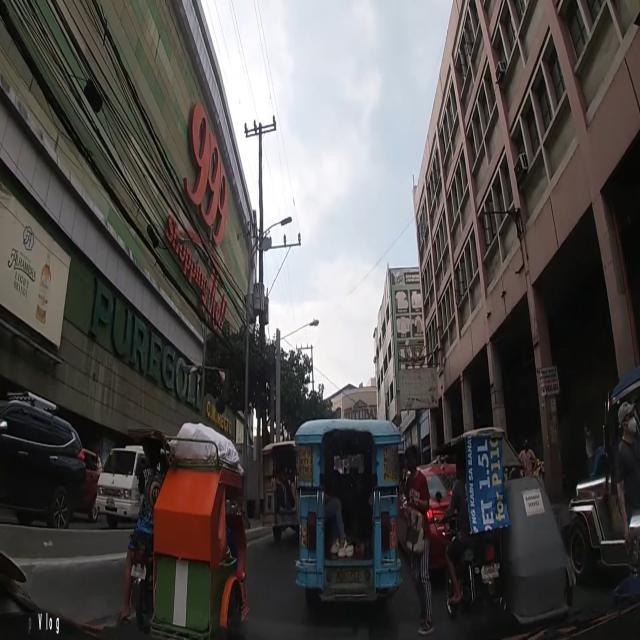car: (0, 389, 87, 529)
jeepney: (295, 418, 403, 622), (565, 363, 640, 584), (264, 442, 298, 544)
tricycle: (118, 420, 250, 640), (442, 426, 576, 628)
truck: (96, 444, 146, 532)
